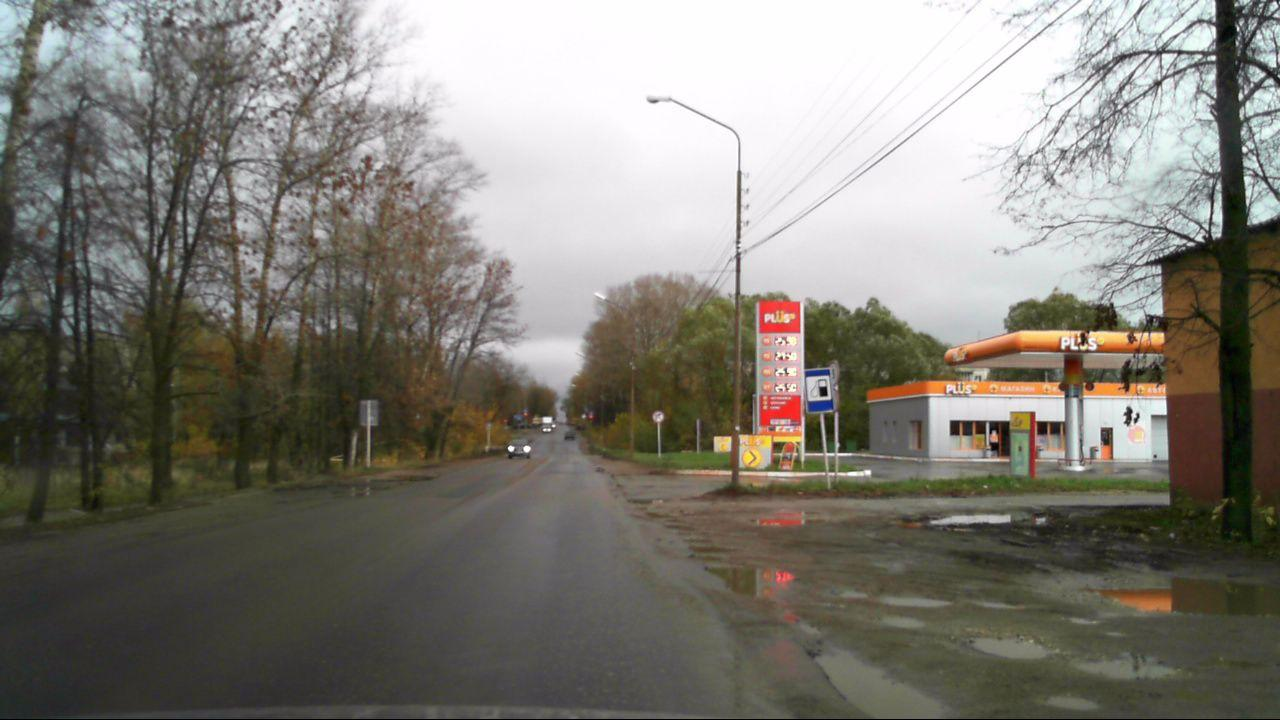7_3: (803, 367, 836, 413)
